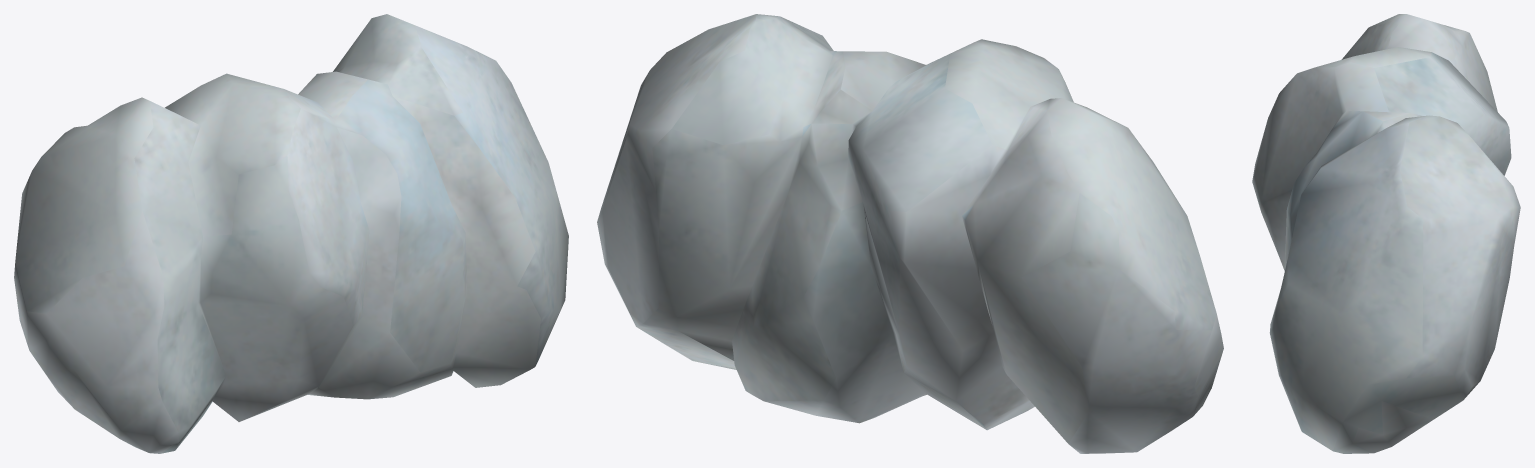
File: P_BoulderClumpClassic2.obj
The picture shows the model from 3 angles, left to right: view 1: azimuth 30°, elevation 25°; view 2: azimuth 150°, elevation 25°; view 3: azimuth 270°, elevation 25°; orthographic projection. The views are drawn at different scales.
Size of the model in its own units: 26.01 by 15.87 by 12.75.
